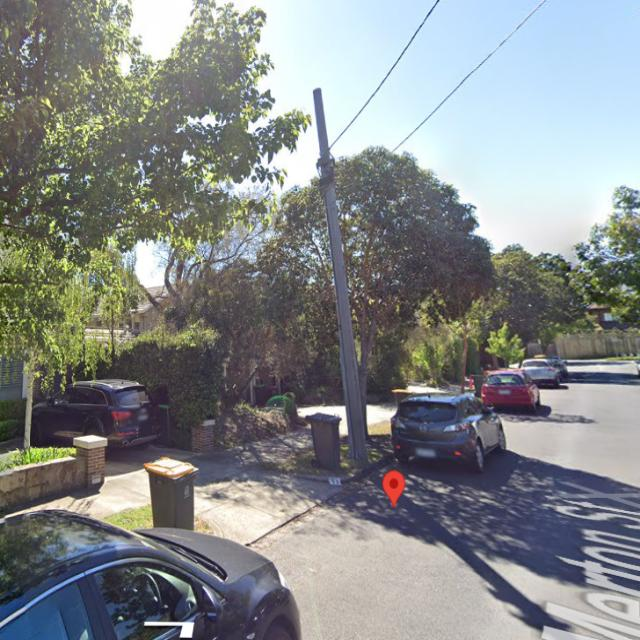timber-pole: (312, 87, 370, 471)
